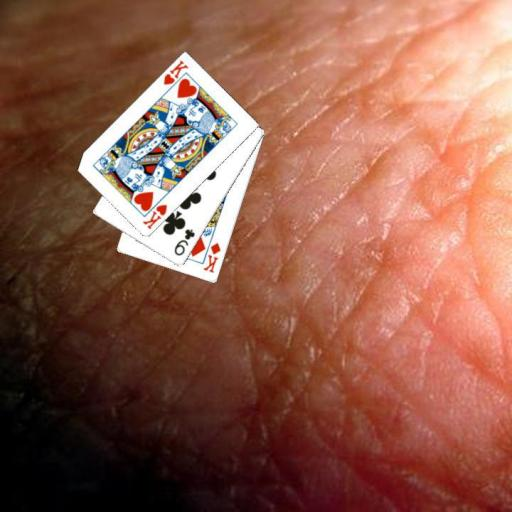9C: (171, 226, 196, 258)
KD: (201, 240, 223, 275)
KH: (140, 201, 169, 231), (160, 58, 190, 87)
